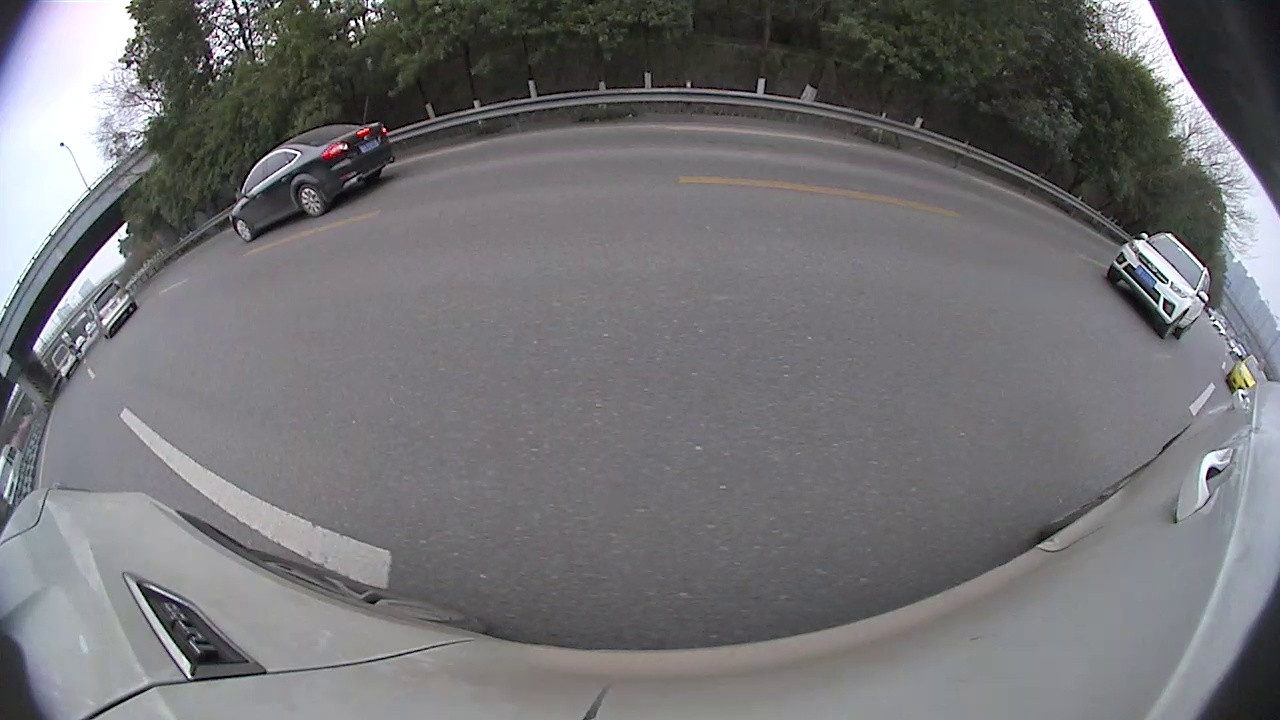car: (228, 119, 397, 244), (1106, 229, 1213, 342), (91, 279, 139, 341), (1225, 353, 1267, 395), (49, 342, 82, 382)
front: (1162, 312, 1185, 340), (234, 217, 253, 243)
rear: (298, 186, 325, 216)
